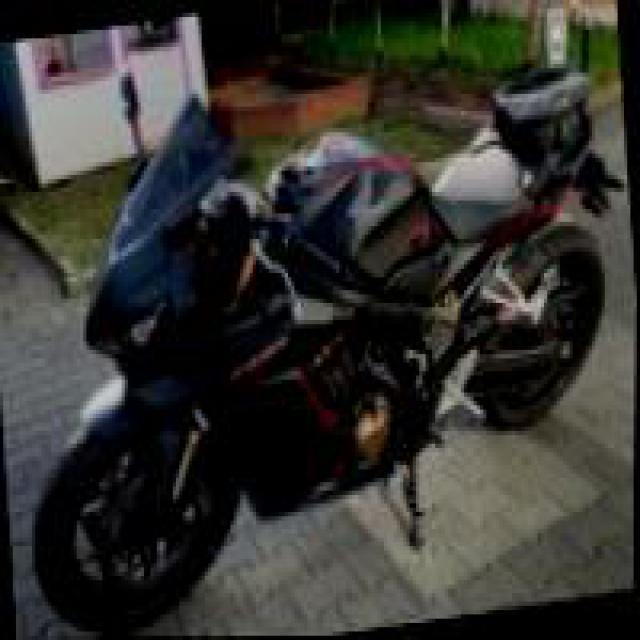CBR650R: (3, 34, 637, 636)
